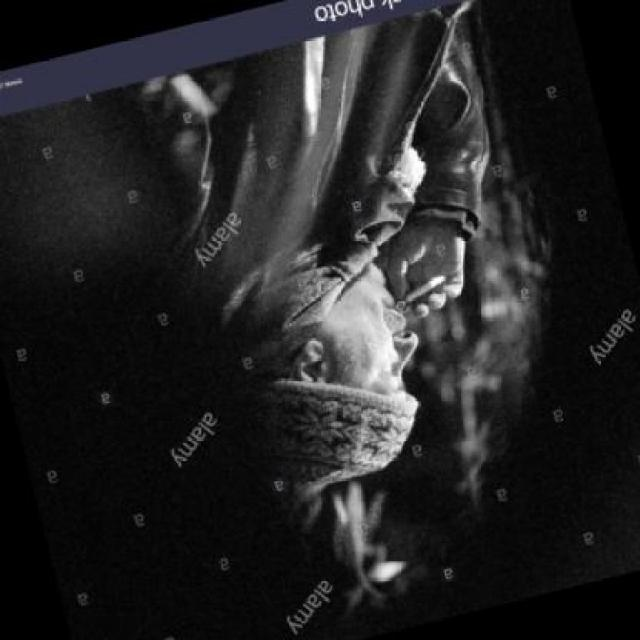cigarette: (394, 269, 448, 306)
